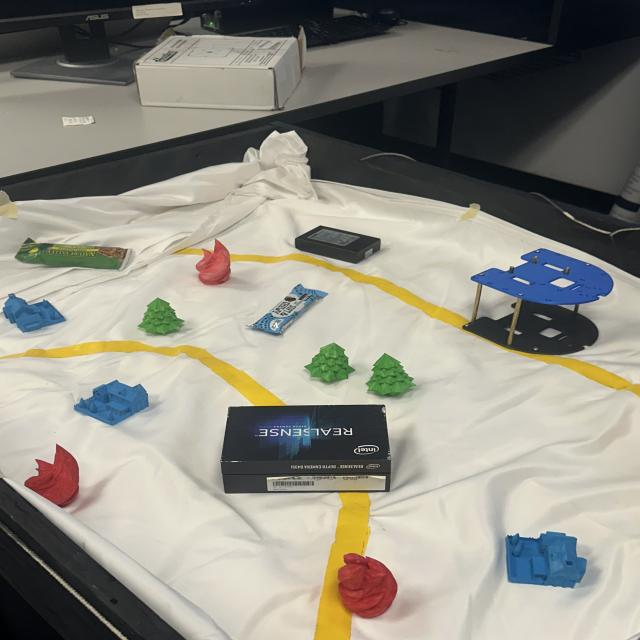fire: (341, 556, 401, 619), (28, 441, 82, 508), (197, 238, 234, 290)
house: (502, 530, 590, 590), (76, 378, 152, 426), (4, 290, 69, 332)
tree: (365, 352, 416, 397), (303, 341, 356, 383), (137, 297, 185, 335)
